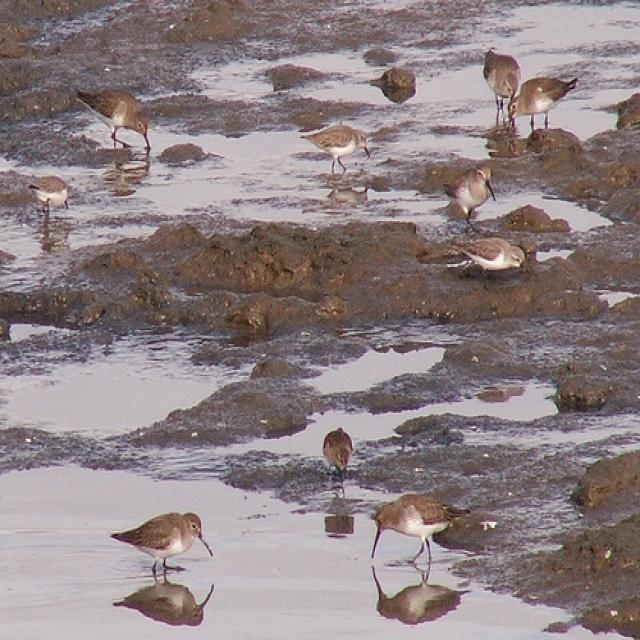bird: (371, 498, 469, 564), (116, 510, 216, 570), (369, 564, 466, 624), (118, 572, 215, 628), (77, 84, 155, 146), (507, 76, 577, 128), (306, 126, 371, 172), (456, 234, 526, 276), (481, 48, 520, 122), (447, 164, 495, 221), (322, 425, 354, 488), (27, 178, 72, 215)
